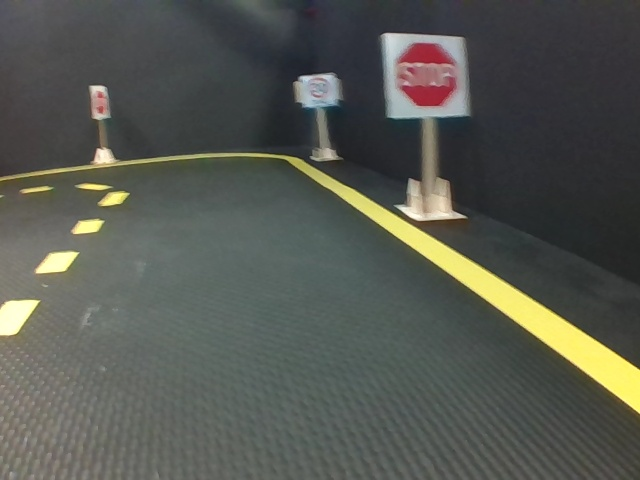30: (299, 75, 338, 105)
stop: (386, 32, 467, 116), (92, 87, 109, 118)
